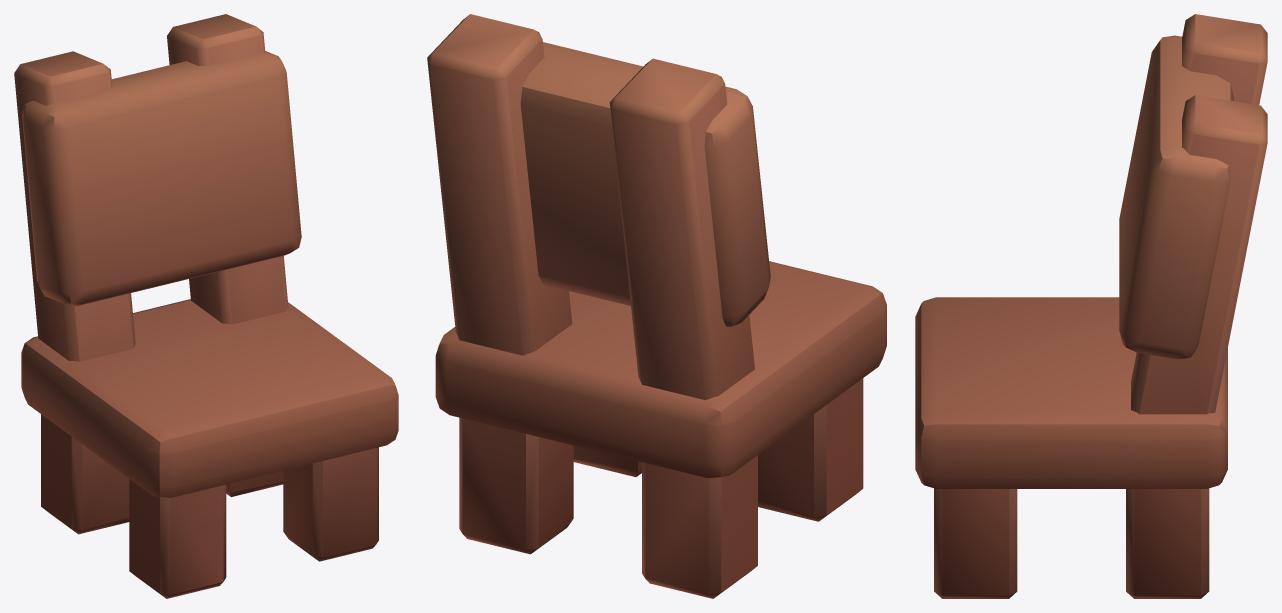
The model's file is kkf.chair_b_wood.glb.
3 renders of one model, left to right at view 1: azimuth 30°, elevation 25°; view 2: azimuth 150°, elevation 25°; view 3: azimuth 270°, elevation 25°, orthographic. The views are drawn at different scales.
Parts seen in each view (by area): view 1: chair_B_wood; view 2: chair_B_wood; view 3: chair_B_wood.
Boxes of the visible parts, x1,y1,x2,y2 form: chair_B_wood: [14, 14, 398, 598]; chair_B_wood: [427, 14, 886, 598]; chair_B_wood: [915, 14, 1267, 598].
Bounding box in the file's own units: 0.5366 × 0.9002 × 0.6046.
1 material, 1 textured.
